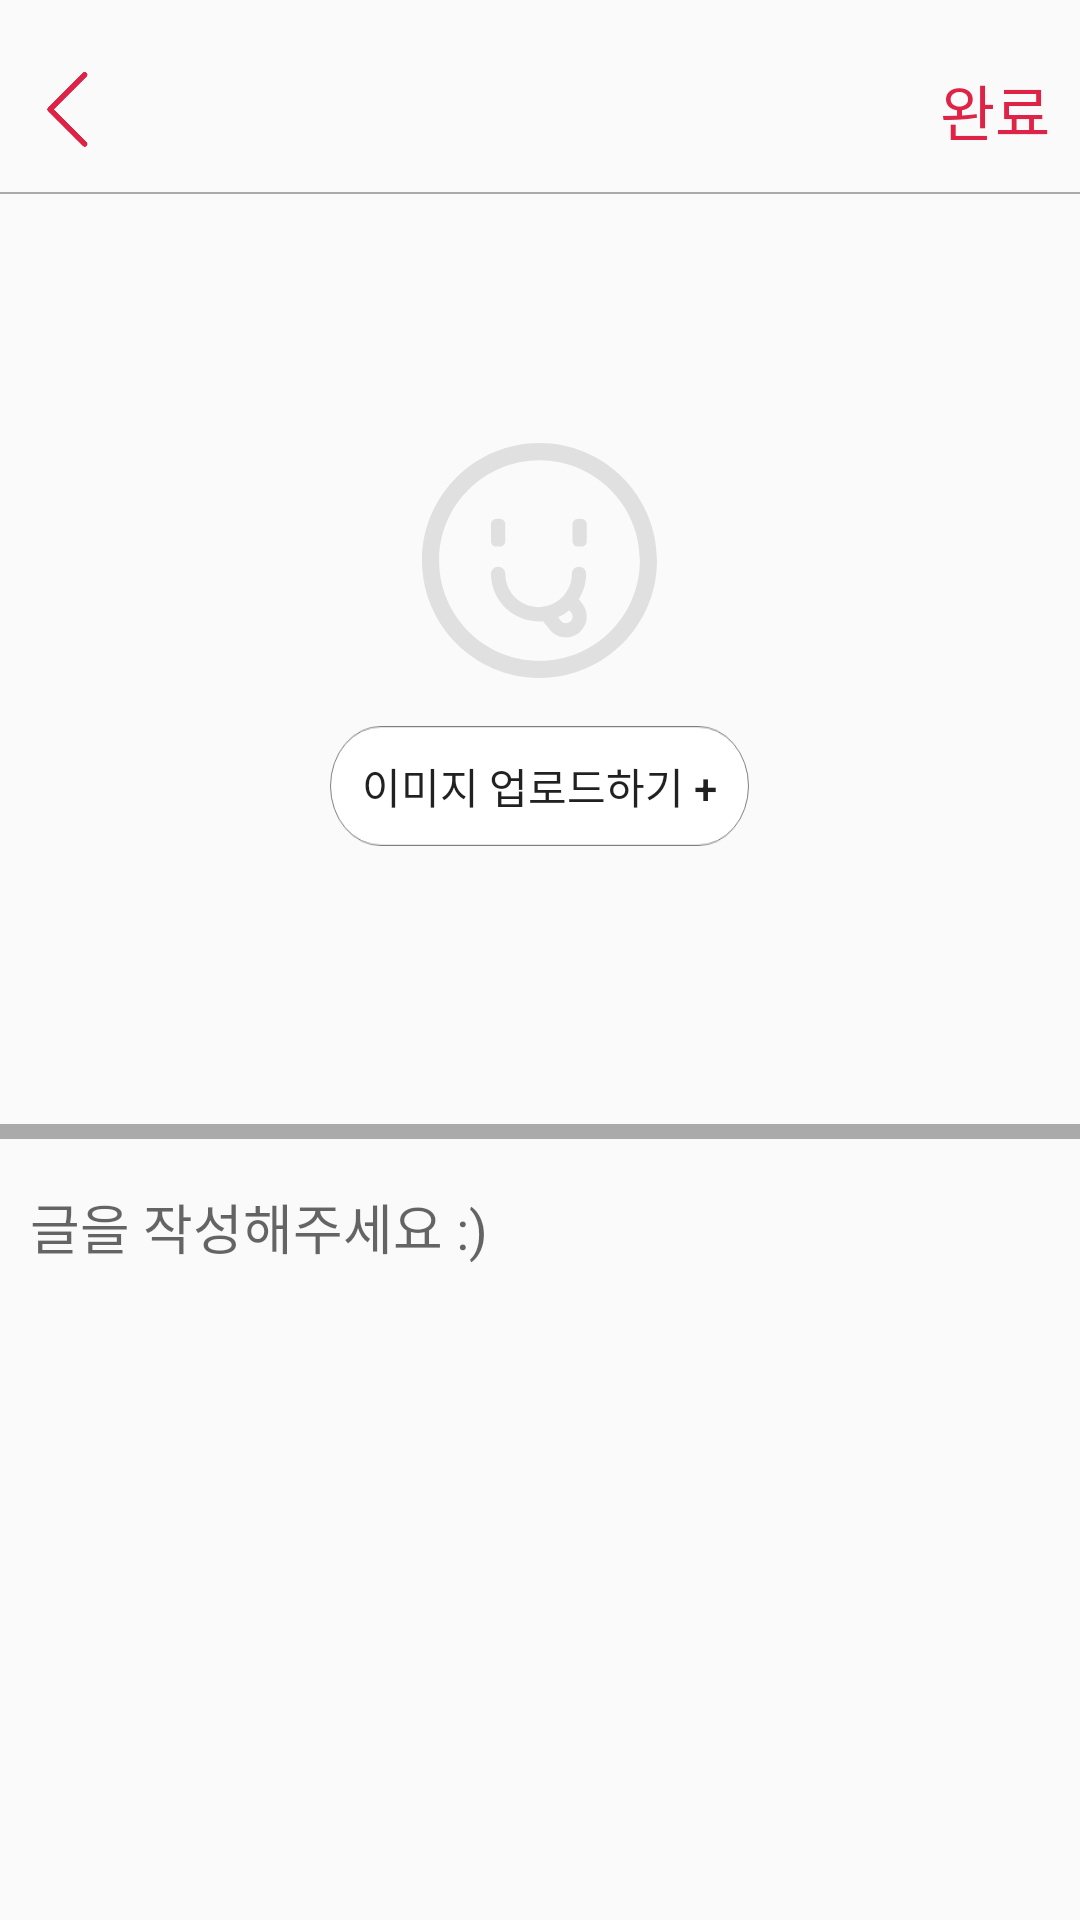

Where to tap for icons on this 1080*1920 app screen, as [x,y]:
back: [67,109]
